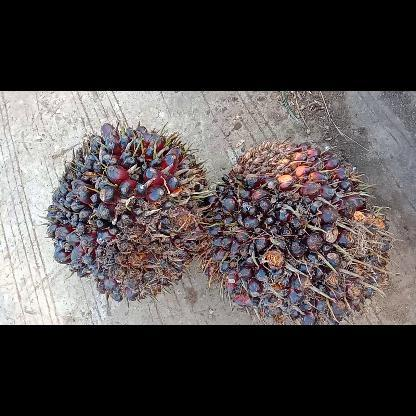TBS mentah: (206, 140, 390, 322), (46, 122, 209, 298)
